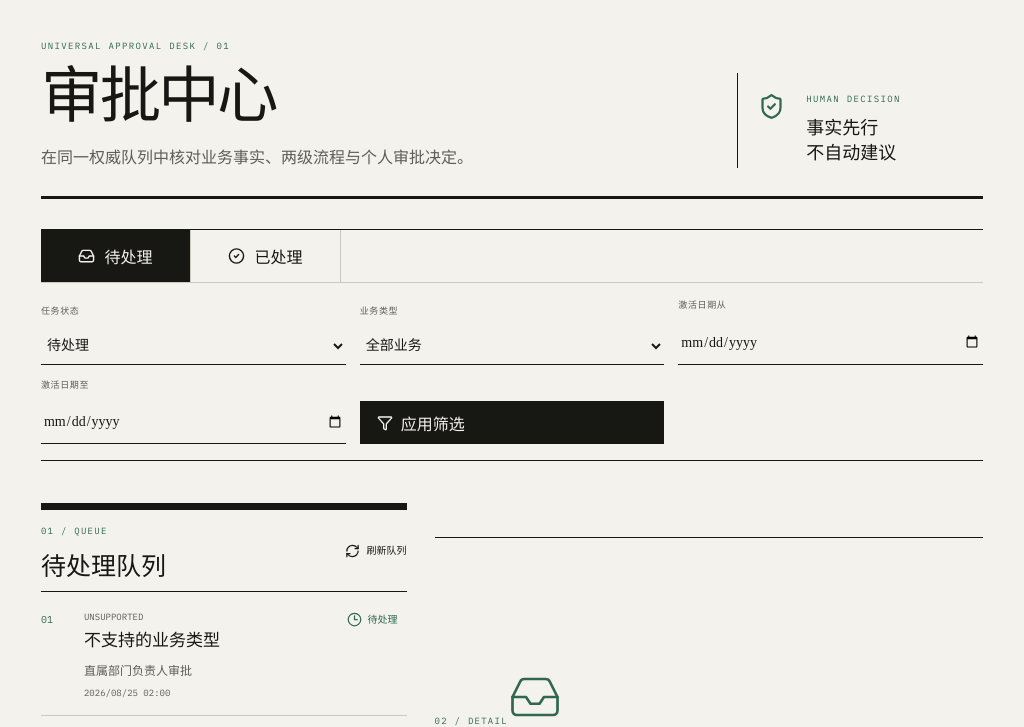
Test case: ApprovalCenterPage › fails closed for unknown subjects without dumping payload
The width and height of the screenshot is (1024, 727).
Expected: the text "不支持的业务类型" is shown, [84,631,220,650]
Click the button "01 UNSUPPORTED 不支持的业务类型 直属部门负责人审批 待处理 2026/08/25 02:00". click: coordinates (114, 617)
box: [41,592,407,716]
(page scrolled)
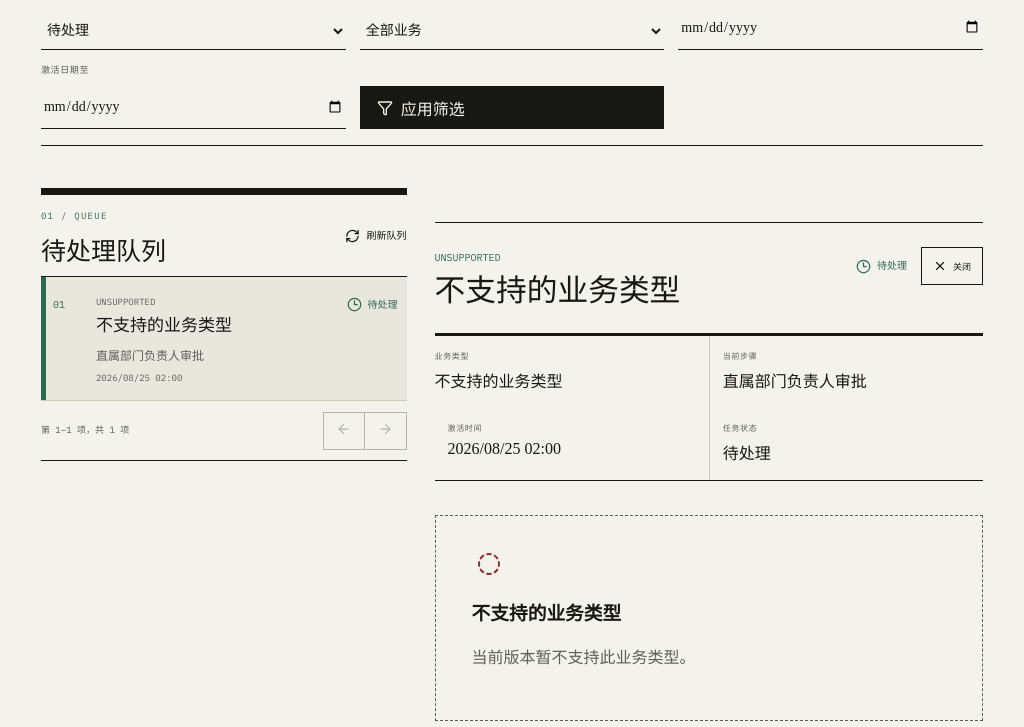
Expected: the text "当前版本暂不支持此业务类型。" is shown, [472,649,696,666]
